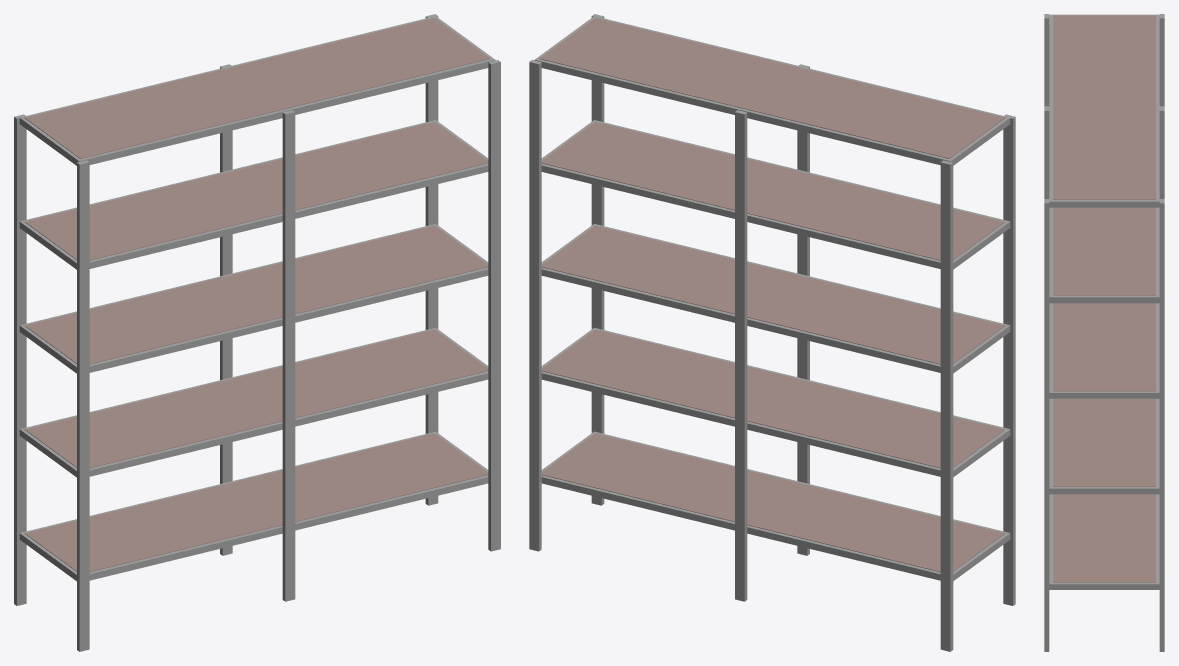
The model's file is HE_ShelveNew_LOW.fbx.
3 views of the same model, side by side, from view 1: azimuth 30°, elevation 25°; view 2: azimuth 150°, elevation 25°; view 3: azimuth 270°, elevation 25° (orthographic). The views are drawn at different scales.
Parts seen in each view (by area): view 1: Shelve_5, Shelve_2, Shelve_4, Shelve_1, Shelve_3, Struc_5, Struc_4, Struc_6, Struc_3, Struc_1, Struc_2; view 2: Shelve_5, Shelve_4, Shelve_2, Shelve_3, Shelve_1, Struc_3, Struc_1, Struc_2, Struc_6, Struc_4, Struc_5; view 3: Shelve_5, Shelve_2, Shelve_4, Shelve_1, Shelve_3, Struc_1, Struc_4, Struc_2, Struc_5, Struc_3, Struc_6.
Part boxes in pixels (bbox=[...]): Shelve_5: bbox=[19, 16, 495, 165]; Shelve_2: bbox=[19, 327, 488, 477]; Shelve_4: bbox=[19, 120, 488, 269]; Shelve_1: bbox=[19, 431, 488, 581]; Shelve_3: bbox=[19, 224, 488, 373]; Struc_5: bbox=[282, 110, 295, 601]; Struc_4: bbox=[488, 60, 500, 551]; Struc_6: bbox=[77, 160, 89, 651]; Struc_3: bbox=[14, 114, 26, 605]; Struc_1: bbox=[425, 14, 438, 505]; Struc_2: bbox=[220, 64, 232, 555]; Shelve_5: bbox=[534, 16, 1010, 165]; Shelve_4: bbox=[541, 120, 1010, 269]; Shelve_2: bbox=[541, 327, 1010, 476]; Shelve_3: bbox=[541, 224, 1010, 373]; Shelve_1: bbox=[541, 431, 1010, 580]; Struc_3: bbox=[940, 160, 953, 651]; Struc_1: bbox=[529, 60, 541, 551]; Struc_2: bbox=[735, 110, 747, 601]; Struc_6: bbox=[1003, 114, 1015, 605]; Struc_4: bbox=[591, 14, 604, 505]; Struc_5: bbox=[797, 64, 809, 555]; Shelve_5: bbox=[1049, 14, 1159, 207]; Shelve_2: bbox=[1049, 398, 1159, 494]; Shelve_4: bbox=[1049, 207, 1159, 303]; Shelve_1: bbox=[1049, 494, 1159, 589]; Shelve_3: bbox=[1049, 303, 1159, 398]; Struc_1: bbox=[1159, 199, 1164, 651]; Struc_4: bbox=[1044, 199, 1049, 651]; Struc_2: bbox=[1159, 106, 1164, 198]; Struc_5: bbox=[1044, 106, 1049, 198]; Struc_3: bbox=[1159, 14, 1164, 106]; Struc_6: bbox=[1044, 14, 1049, 106].
Size of the model in its own units: 6.37 by 7.05 by 1.71.
